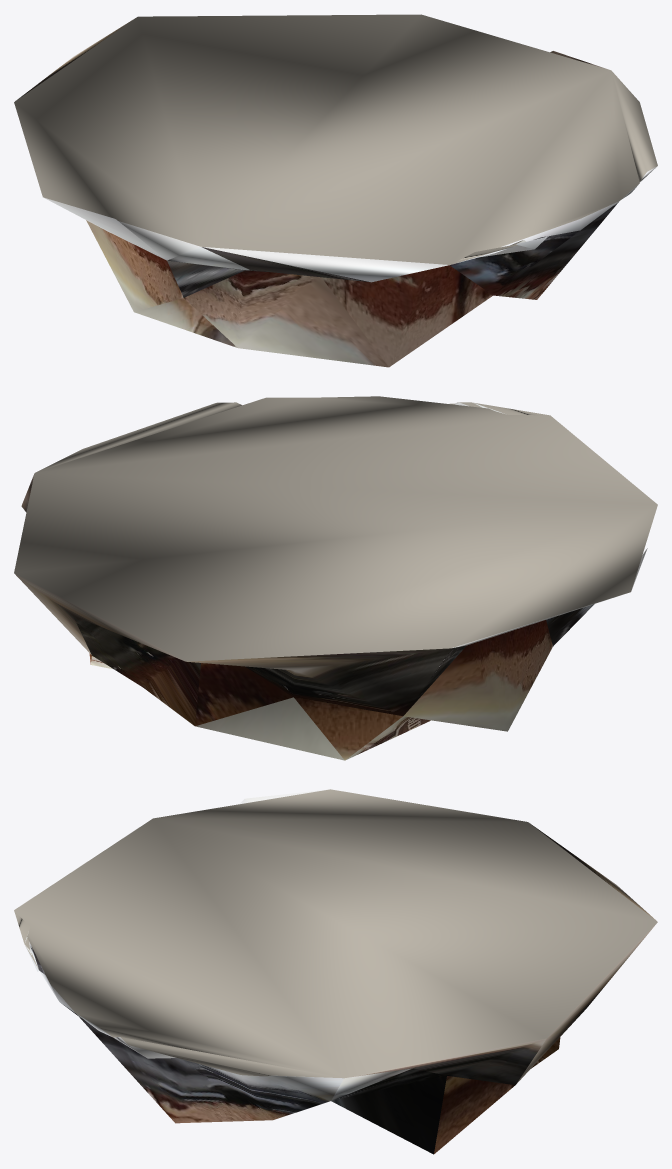
Rendered from cake_116.obj.
3 renders of one model, top to bottom at view 1: azimuth 30°, elevation 25°; view 2: azimuth 150°, elevation 25°; view 3: azimuth 270°, elevation 25°, orthographic. The views are drawn at different scales.
Size of the model in its own units: 0.181 by 0.0475 by 0.182.
Materials: 1 (1 with a texture image).
